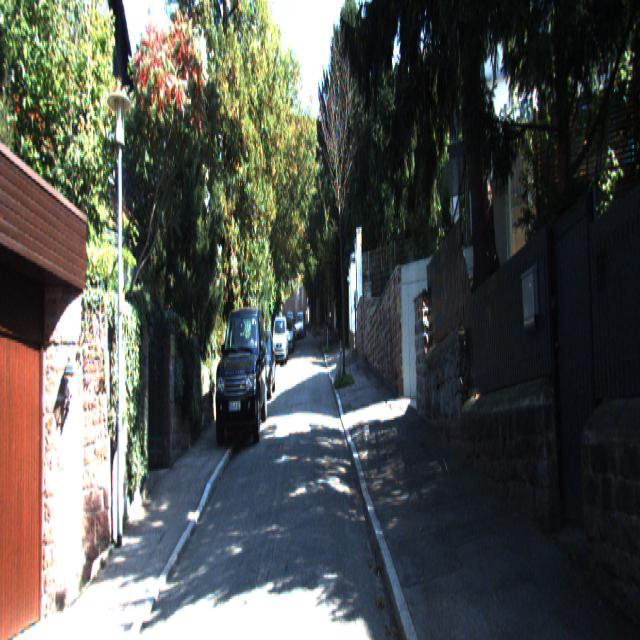Car: (212, 300, 269, 453), (272, 316, 288, 368)
